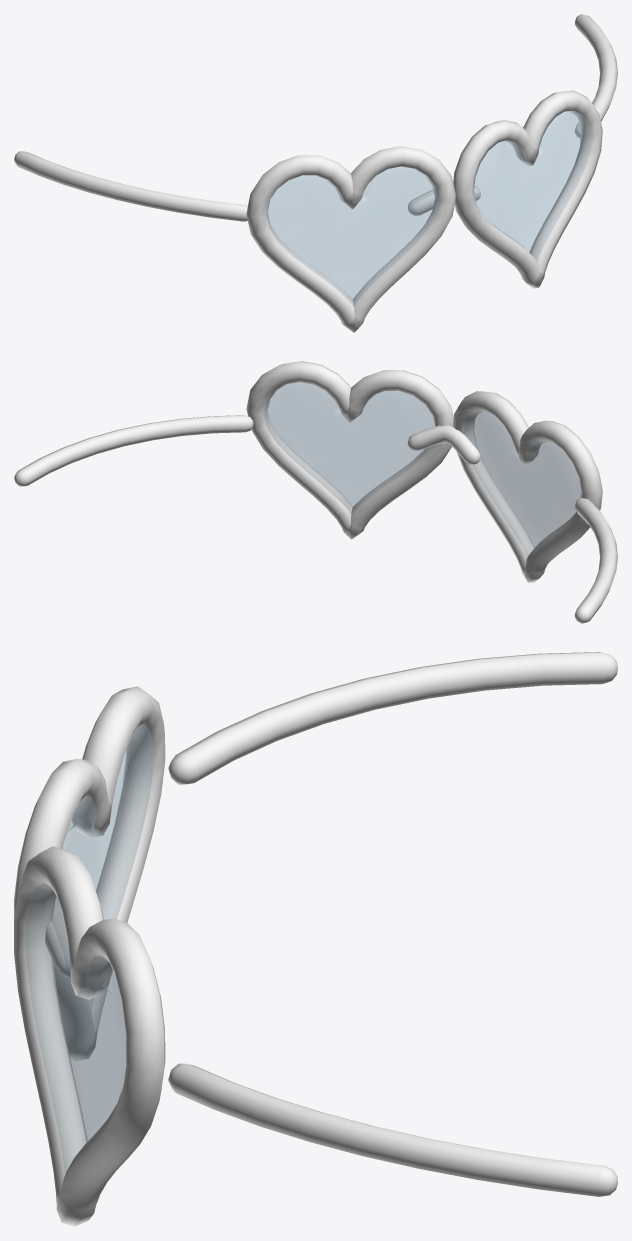
Rendered from heart_glasses.glb.
The picture shows the model from 3 angles, top to bottom: view 1: azimuth 30°, elevation 25°; view 2: azimuth 150°, elevation 25°; view 3: azimuth 270°, elevation 25°; orthographic projection. The views are drawn at different scales.
Visible parts, largest first — view 1: heart_glasses; view 2: heart_glasses; view 3: heart_glasses.
Boxes of the visible parts, x1,y1,x2,y2 form: heart_glasses: (14, 14, 617, 332); heart_glasses: (14, 361, 617, 623); heart_glasses: (14, 652, 617, 1226).
Size of the model in its own units: 1.03 by 0.3043 by 0.5008.
